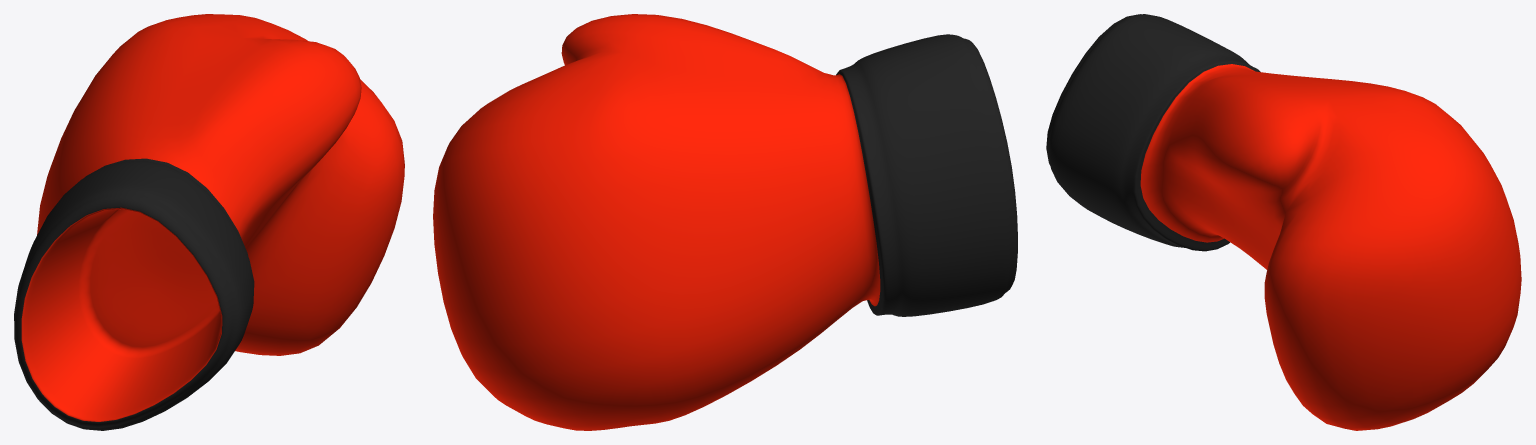
File: left_Damage.fbx
3 views of the same model, side by side, from view 1: azimuth 30°, elevation 25°; view 2: azimuth 150°, elevation 25°; view 3: azimuth 270°, elevation 25° (orthographic). The views are drawn at different scales.
Visible parts, largest first — view 1: Boxing_Hand_Left_Damage; view 2: Boxing_Hand_Left_Damage; view 3: Boxing_Hand_Left_Damage.
Boxes of the visible parts, x1,y1,x2,y2 form: Boxing_Hand_Left_Damage: (14, 14, 404, 430); Boxing_Hand_Left_Damage: (433, 14, 1017, 430); Boxing_Hand_Left_Damage: (1046, 14, 1521, 430).
Bounding box in the file's own units: 2.82 × 2.01 × 2.82.
